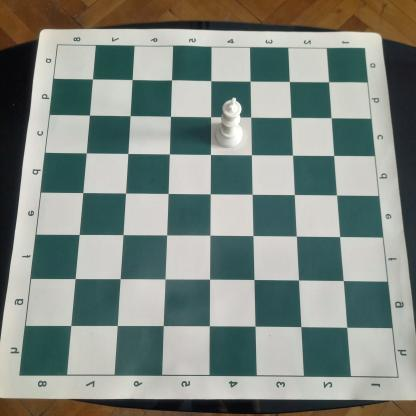white-king: (214, 96, 244, 149)
